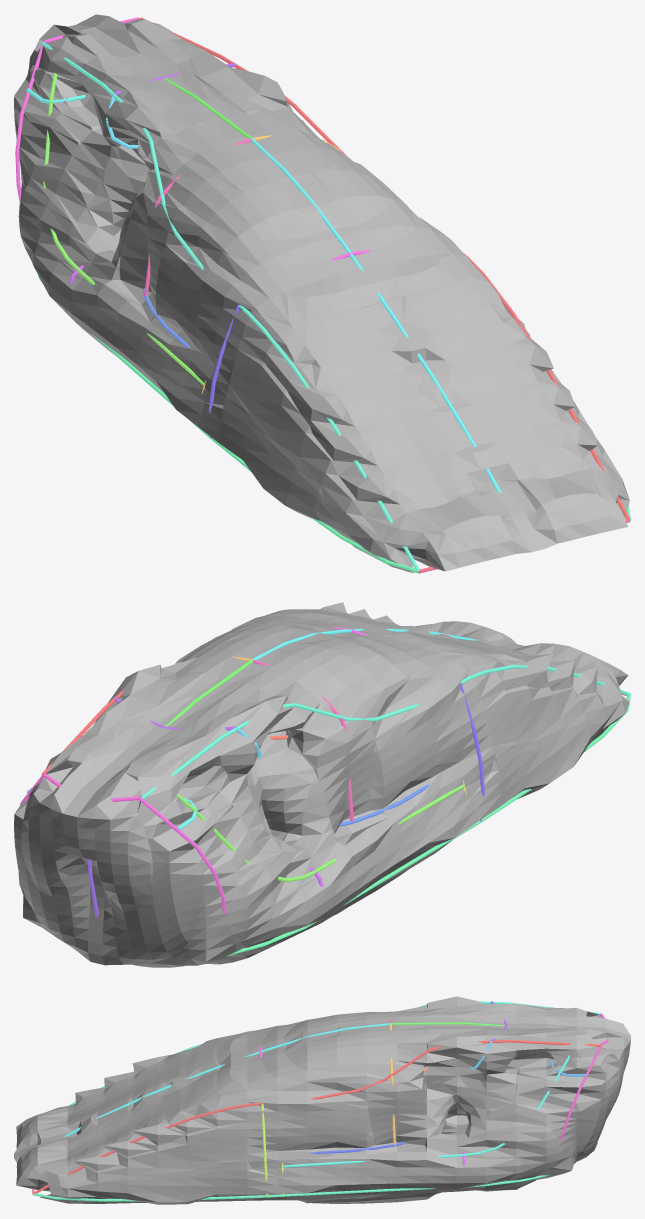
File: t2f_hand_vacuum.gltf
3 views of the same model, one above another, from view 1: azimuth 30°, elevation 25°; view 2: azimuth 150°, elevation 25°; view 3: azimuth 270°, elevation 25° (orthographic). The views are drawn at different scales.
Bounding box in the file's own units: 0.3449 × 0.2863 × 0.9727.
